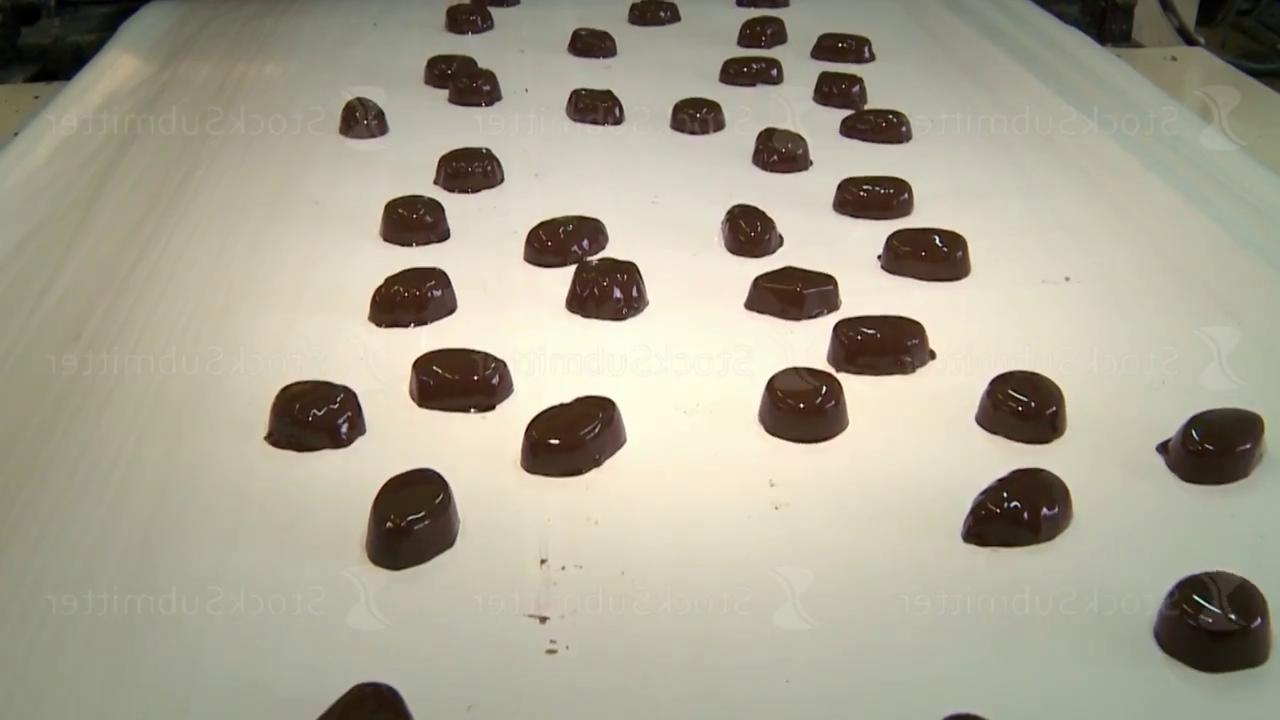chocolate: (1154, 569, 1271, 673), (366, 467, 460, 570), (962, 466, 1073, 547), (521, 394, 627, 477), (1157, 406, 1265, 485), (265, 379, 366, 452), (759, 366, 849, 443), (409, 347, 514, 413), (975, 369, 1067, 444), (828, 314, 936, 375), (368, 266, 457, 328), (566, 256, 649, 320), (745, 265, 841, 320), (879, 226, 971, 281), (524, 214, 609, 268), (317, 681, 414, 719), (380, 194, 450, 246), (834, 175, 914, 219), (721, 203, 783, 257), (434, 146, 505, 193), (752, 126, 813, 173), (840, 108, 913, 144), (566, 87, 625, 126), (448, 67, 502, 107), (339, 96, 389, 139), (670, 97, 726, 135), (814, 70, 868, 108), (811, 32, 876, 63), (720, 55, 784, 86), (737, 15, 787, 49), (568, 27, 617, 58), (446, 3, 495, 34), (628, 0, 681, 26)
